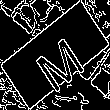M_NW: (25, 21, 85, 89)
